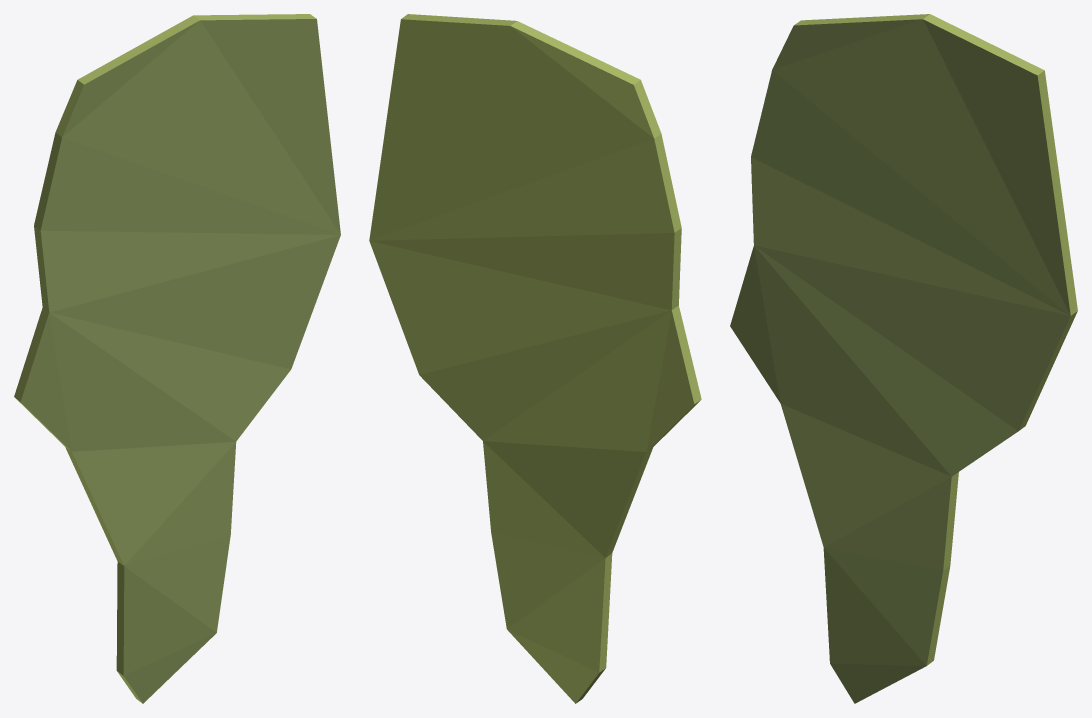
File: Wh_Moss_01.fbx
3 views of the same model, side by side, from view 1: azimuth 30°, elevation 25°; view 2: azimuth 150°, elevation 25°; view 3: azimuth 330°, elevation 25° (orthographic). The views are drawn at different scales.
Parts seen in each view (by area): view 1: Plane.596; view 2: Plane.596; view 3: Plane.596.
Part boxes in pixels (<box>): Plane.596: <box>14,14,340,703</box>; Plane.596: <box>369,14,701,703</box>; Plane.596: <box>730,14,1077,703</box>.
Size of the model in its own units: 100 by 197 by 8.87.
